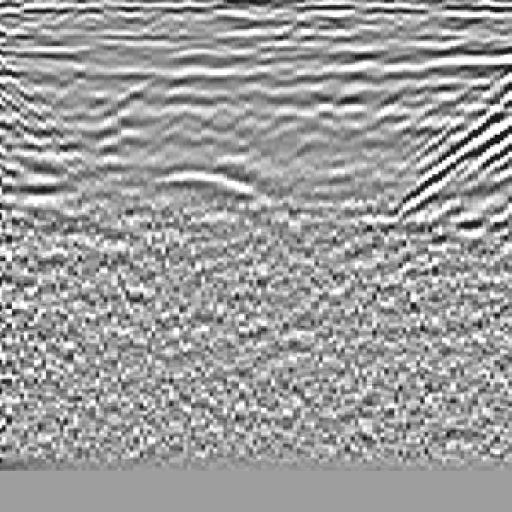metalic: (152, 32, 333, 259)
nonmetalic: (385, 60, 512, 265)
